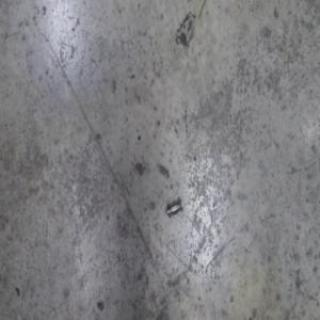Bolttrack_idkeyframe: (164, 195, 182, 218)
